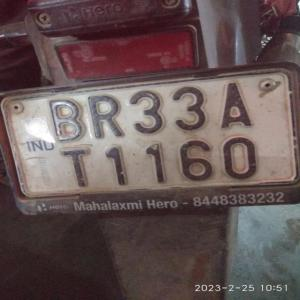Plate: (7, 69, 297, 198)
